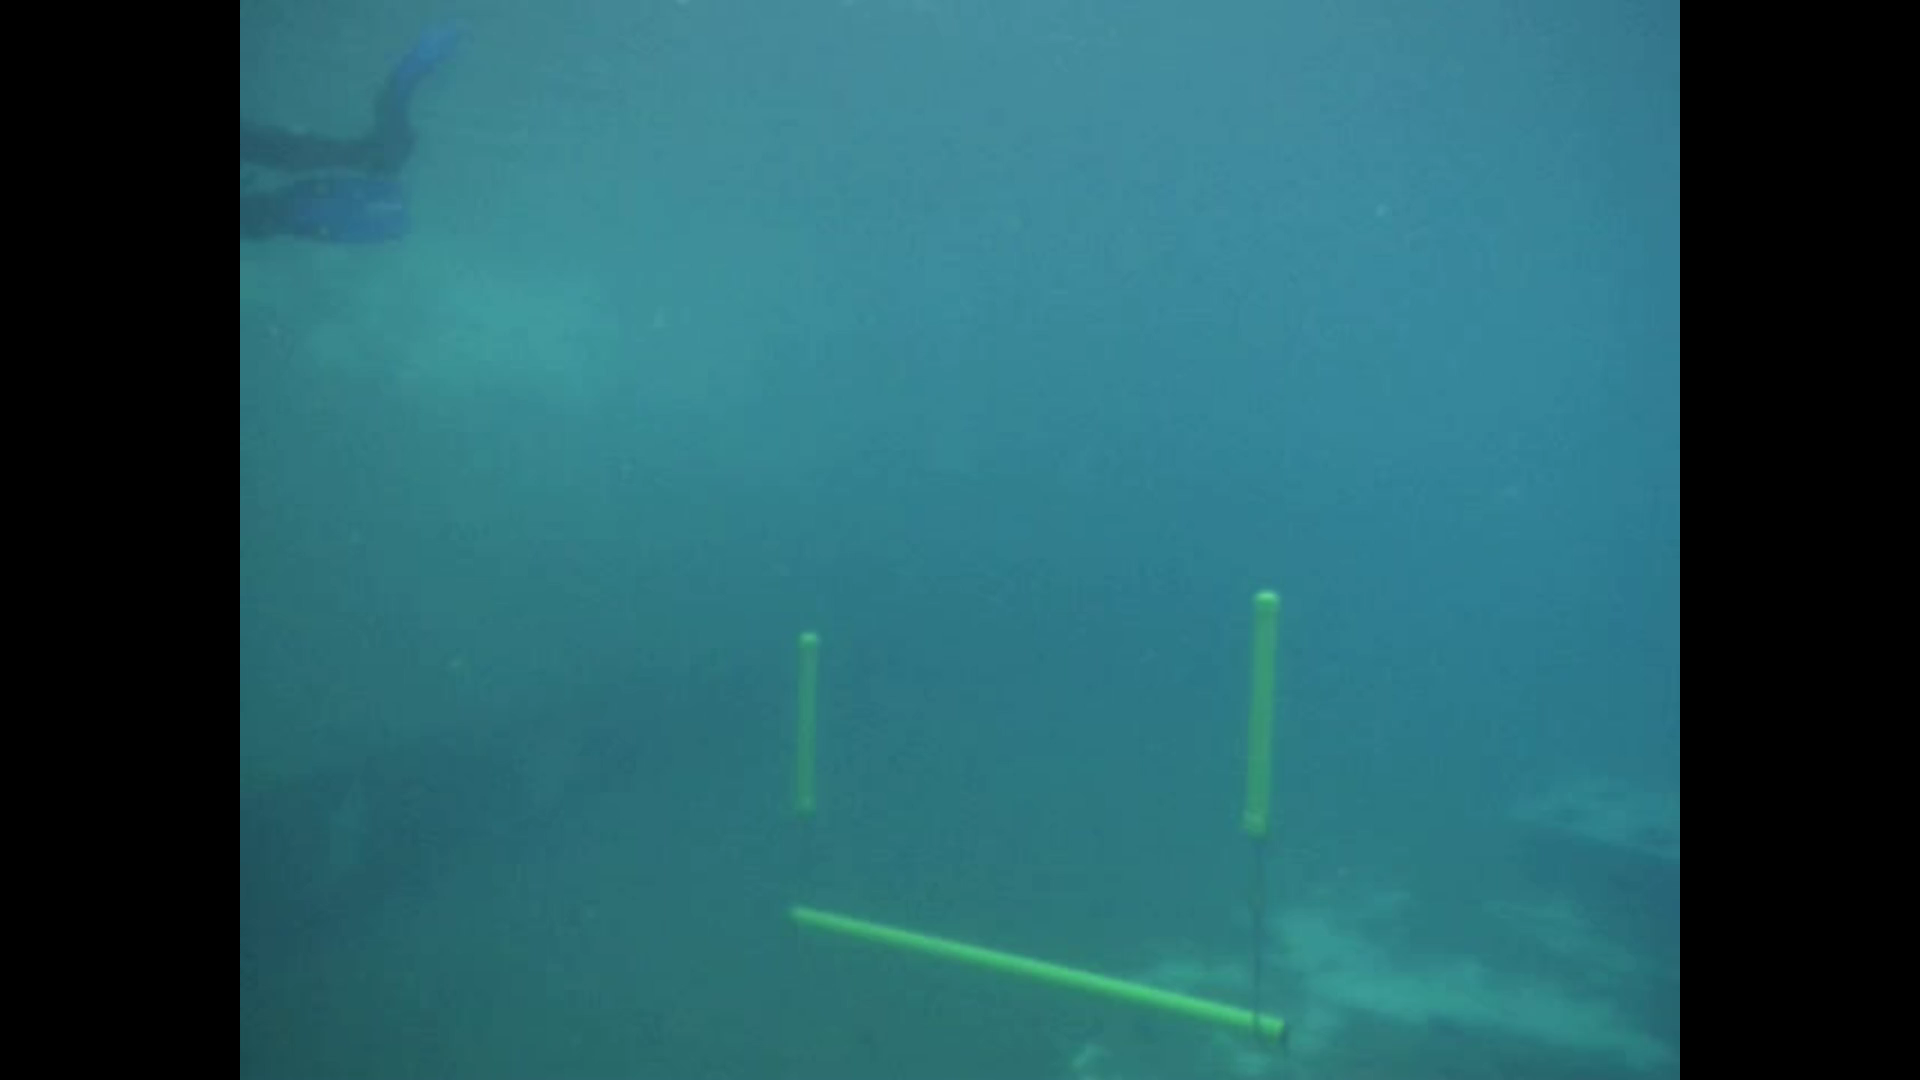gate: (775, 582, 1298, 1048)
